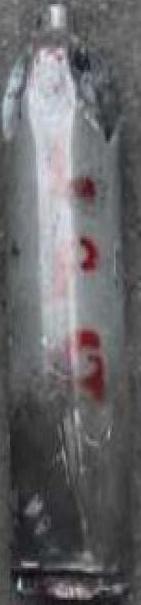cylinder: (0, 1, 141, 605)
